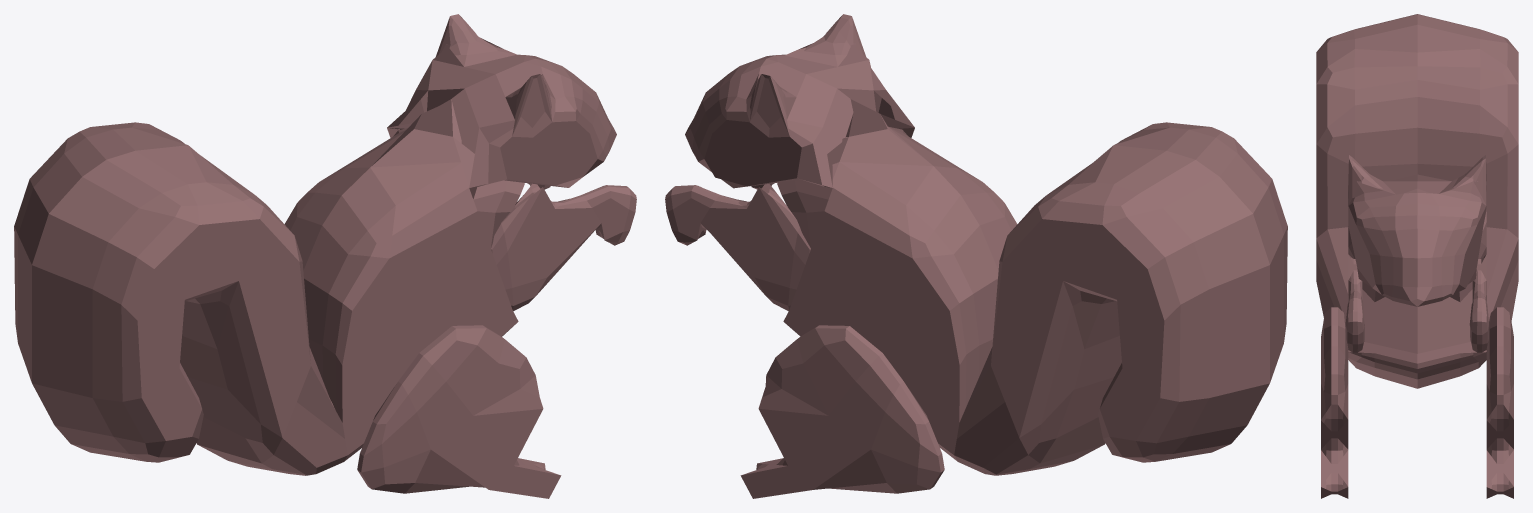
File: Squirrel.glb
3 renders of one model, left to right at view 1: azimuth 30°, elevation 25°; view 2: azimuth 150°, elevation 25°; view 3: azimuth 270°, elevation 25°, orthographic. The views are drawn at different scales.
Parts seen in each view (by area): view 1: Plane; view 2: Plane; view 3: Plane.
Boxes of the visible parts, <box> form: Plane: <box>14,14,636,498</box>; Plane: <box>665,14,1287,498</box>; Plane: <box>1316,14,1518,498</box>.
Size of the model in its own units: 4.08 by 2.75 by 1.46.
